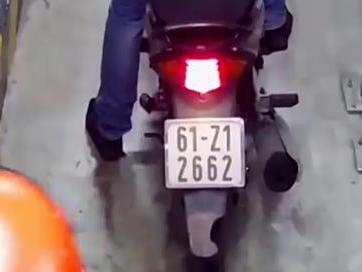num_plate: (163, 117, 245, 188)
